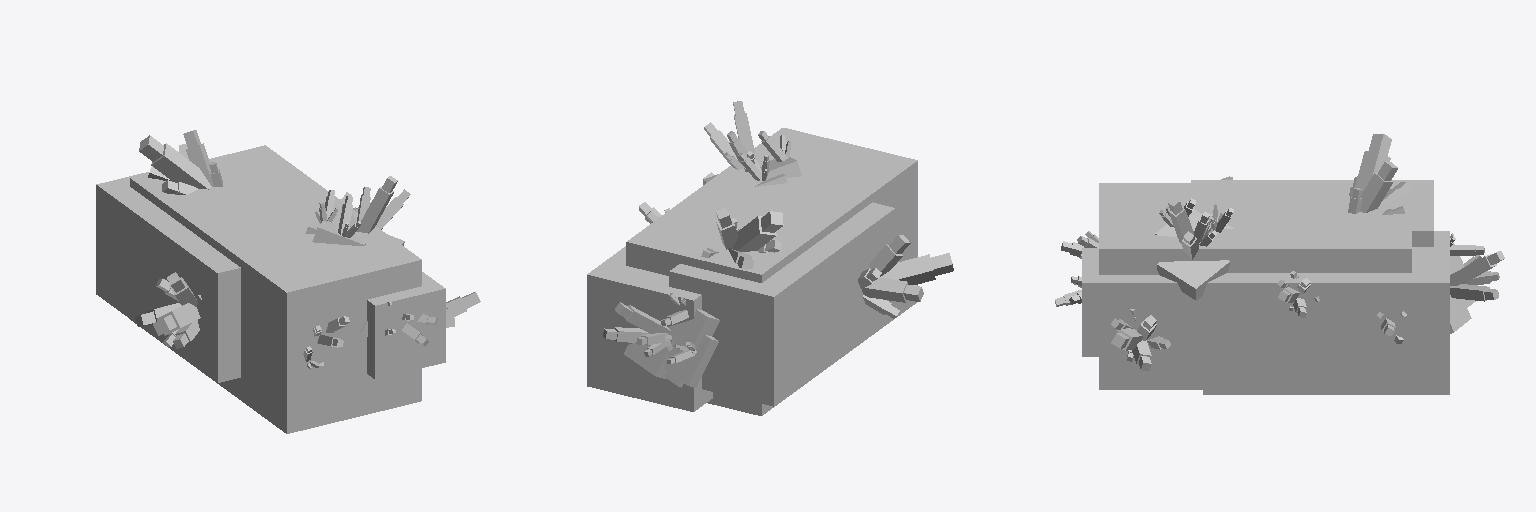
Rendered from crystal asteroid 3.obj.
The picture shows the model from 3 angles: view 1: azimuth 30°, elevation 25°; view 2: azimuth 150°, elevation 25°; view 3: azimuth 270°, elevation 25°; orthographic projection.
Visible parts, largest first — view 1: asteroid_crystal_2 crystal_asteroid_2, crystal_asteroid_2 cyrstal2_crystal_ore_base1; view 2: asteroid_crystal_2 crystal_asteroid_2, crystal_asteroid_2 cyrstal2_crystal_ore_base1; view 3: asteroid_crystal_2 crystal_asteroid_2, crystal_asteroid_2 cyrstal2_crystal_ore_base1.
Part boxes in pixels (bbox=[...]): asteroid_crystal_2 crystal_asteroid_2: bbox=[96, 145, 445, 433]; crystal_asteroid_2 cyrstal2_crystal_ore_base1: bbox=[135, 130, 480, 369]; asteroid_crystal_2 crystal_asteroid_2: bbox=[587, 128, 917, 415]; crystal_asteroid_2 cyrstal2_crystal_ore_base1: bbox=[603, 101, 953, 387]; asteroid_crystal_2 crystal_asteroid_2: bbox=[1082, 180, 1449, 394]; crystal_asteroid_2 cyrstal2_crystal_ore_base1: bbox=[1055, 134, 1504, 370].
Bounding box in the file's own units: 8.48 × 5.48 × 11.48.